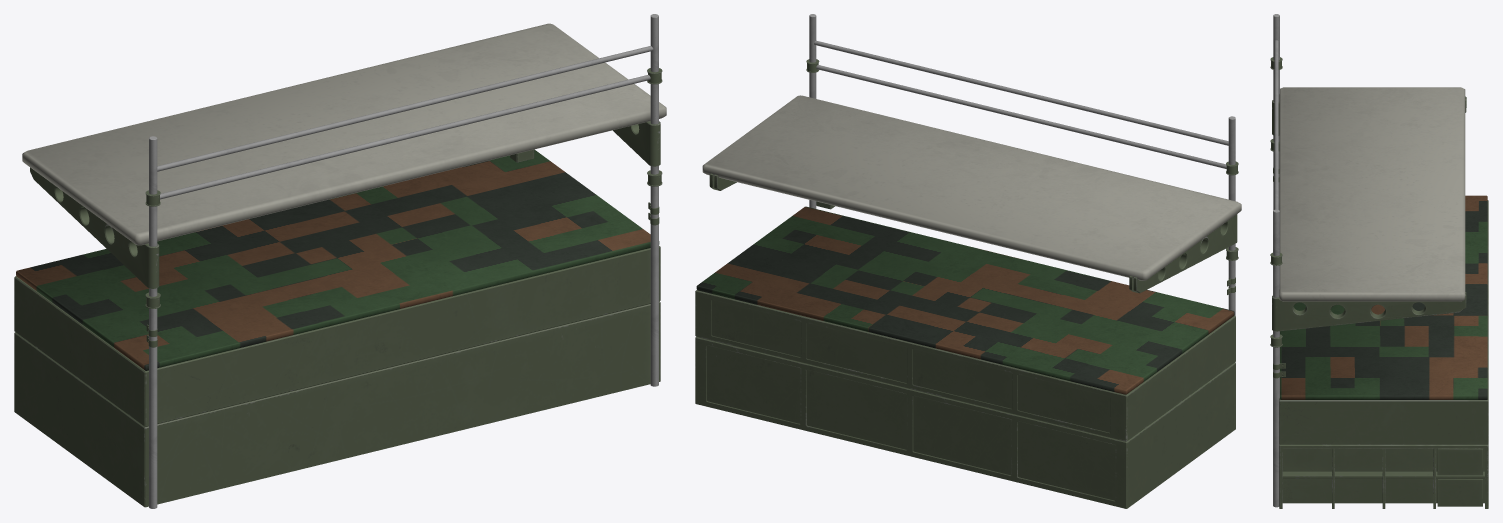
File: L_chuang.FBX
3 renders of one model, left to right at view 1: azimuth 30°, elevation 25°; view 2: azimuth 150°, elevation 25°; view 3: azimuth 270°, elevation 25°, orthographic. The views are drawn at different scales.
Parts seen in each view (by area): view 1: L_chuang; view 2: L_chuang; view 3: L_chuang.
Boxes of the visible parts, x1=… form: L_chuang: x1=14, y1=14, x2=666, y2=508; L_chuang: x1=695, y1=14, x2=1241, y2=508; L_chuang: x1=1270, y1=14, x2=1488, y2=508.
Bounding box in the file's own units: 2.46 × 1.63 × 1.09.
